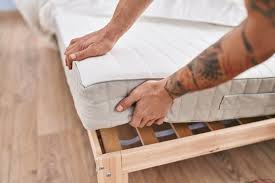bed-matress: (47, 1, 275, 131)
